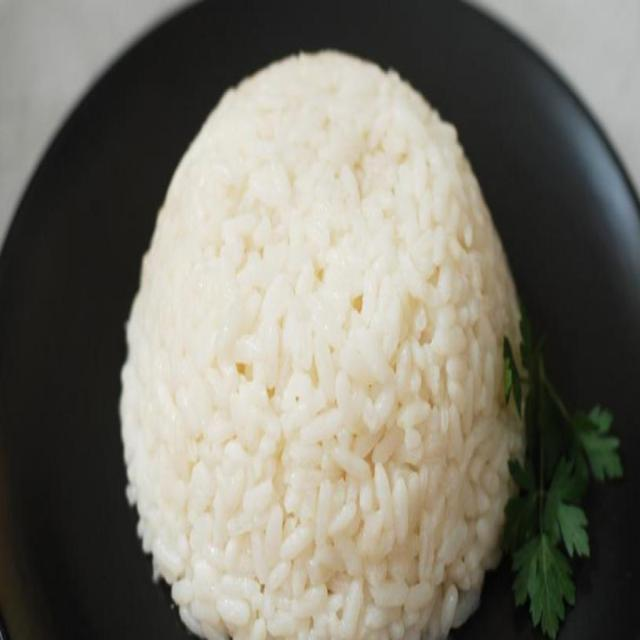arroz: (113, 53, 536, 627)
